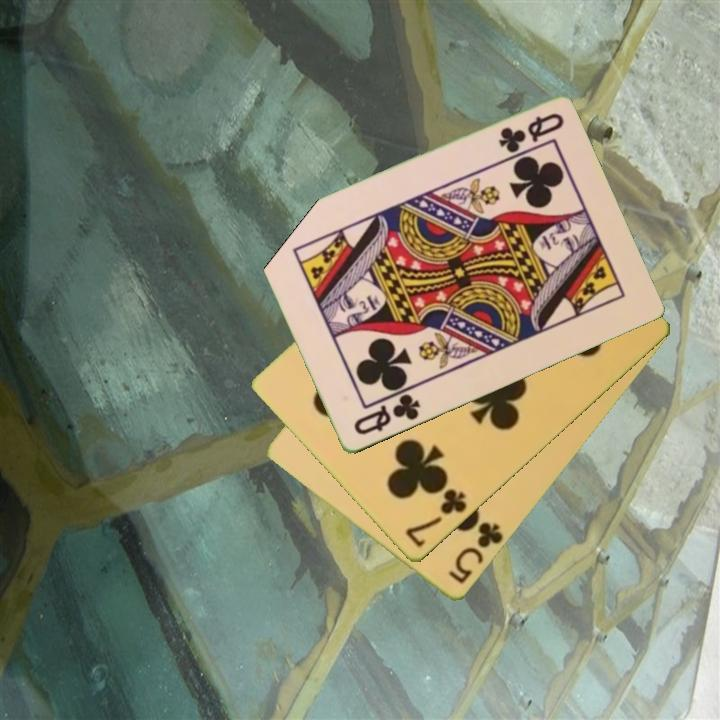5c: (445, 517, 507, 588)
7c: (401, 485, 470, 551)
Qc: (350, 390, 424, 439), (494, 110, 567, 156)
